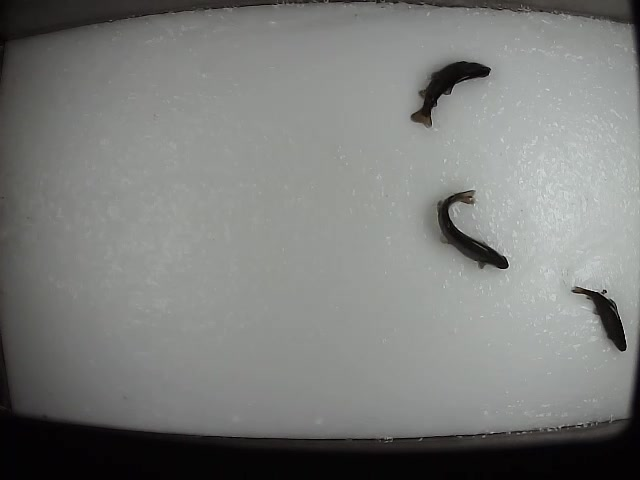fish: (433, 187, 511, 270), (407, 60, 491, 129), (569, 284, 628, 353)
